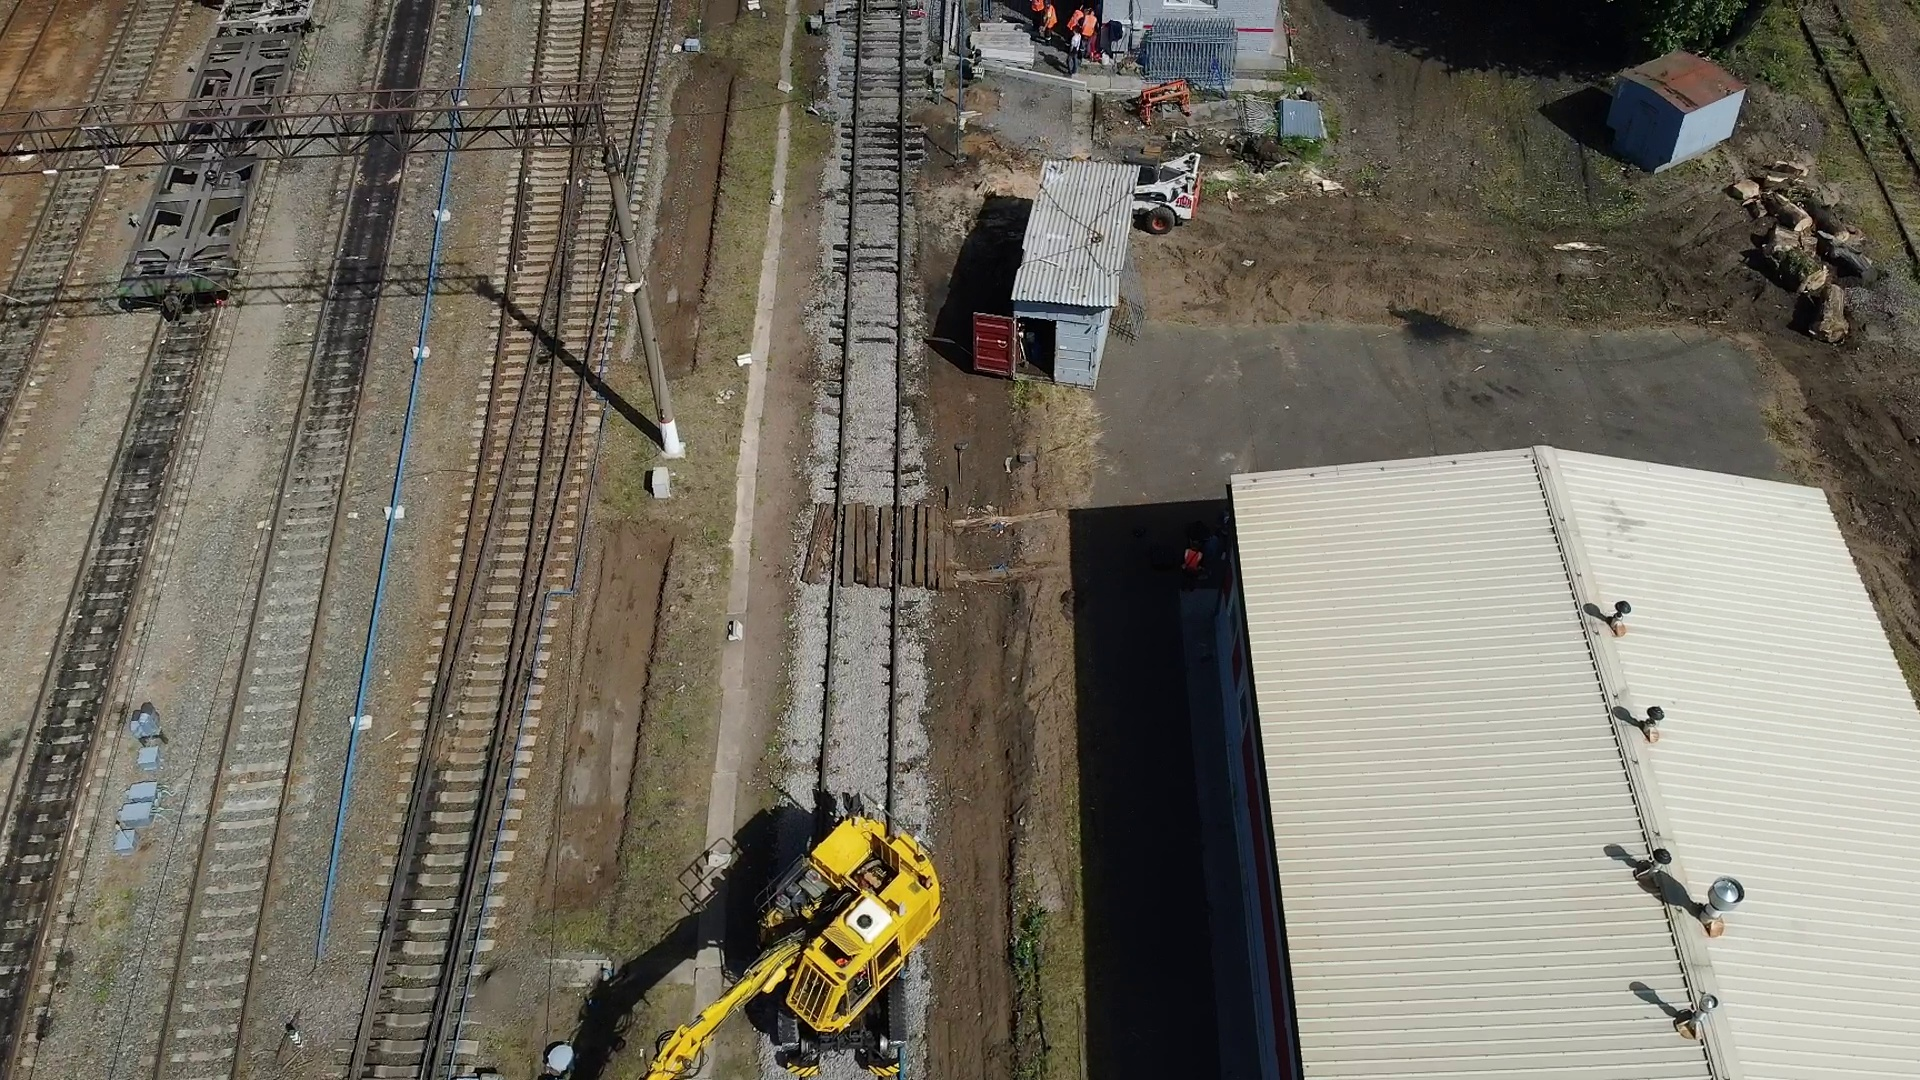kjtv: (752, 807, 942, 1029)
